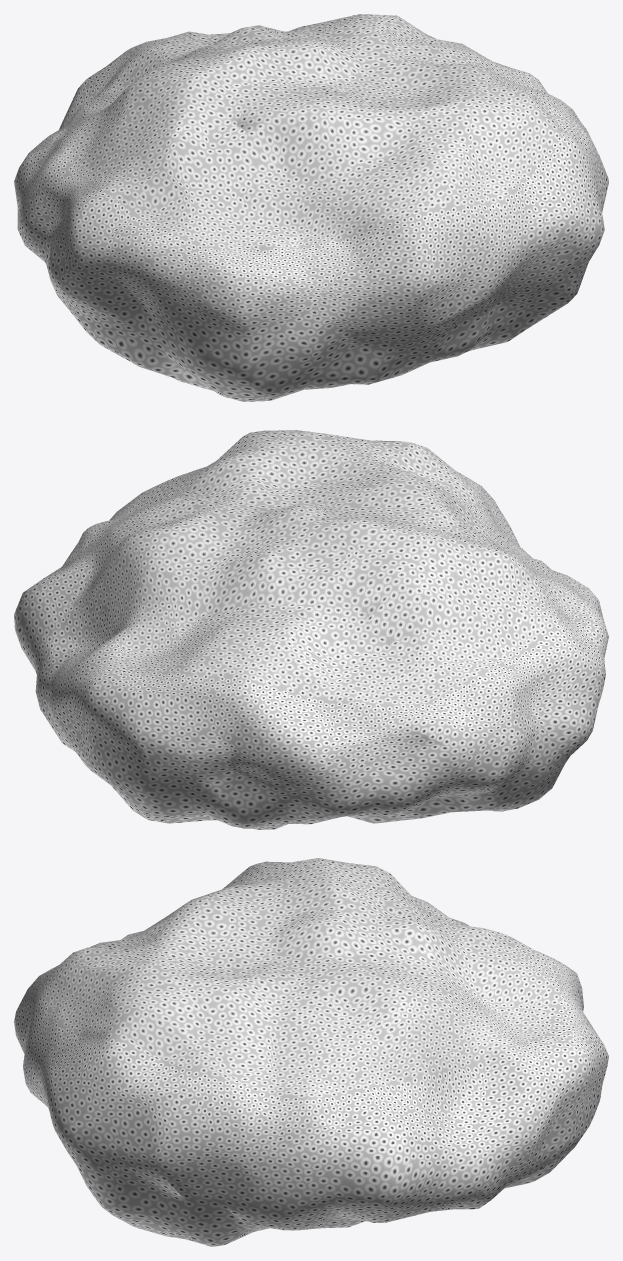
Rendered from BoulderStarCoral01.fbx.
3 renders of one model, top to bottom at view 1: azimuth 30°, elevation 25°; view 2: azimuth 150°, elevation 25°; view 3: azimuth 270°, elevation 25°, orthographic. The views are drawn at different scales.
Visible parts, largest first — view 1: BoulderStarCoral01; view 2: BoulderStarCoral01; view 3: BoulderStarCoral01.
Part boxes in pixels (left/top/right/bottom): BoulderStarCoral01: left=14, top=14, right=608, bottom=401; BoulderStarCoral01: left=14, top=430, right=608, bottom=829; BoulderStarCoral01: left=14, top=858, right=608, bottom=1246.
Size of the model in its own units: 6.15 by 3.15 by 6.11.
